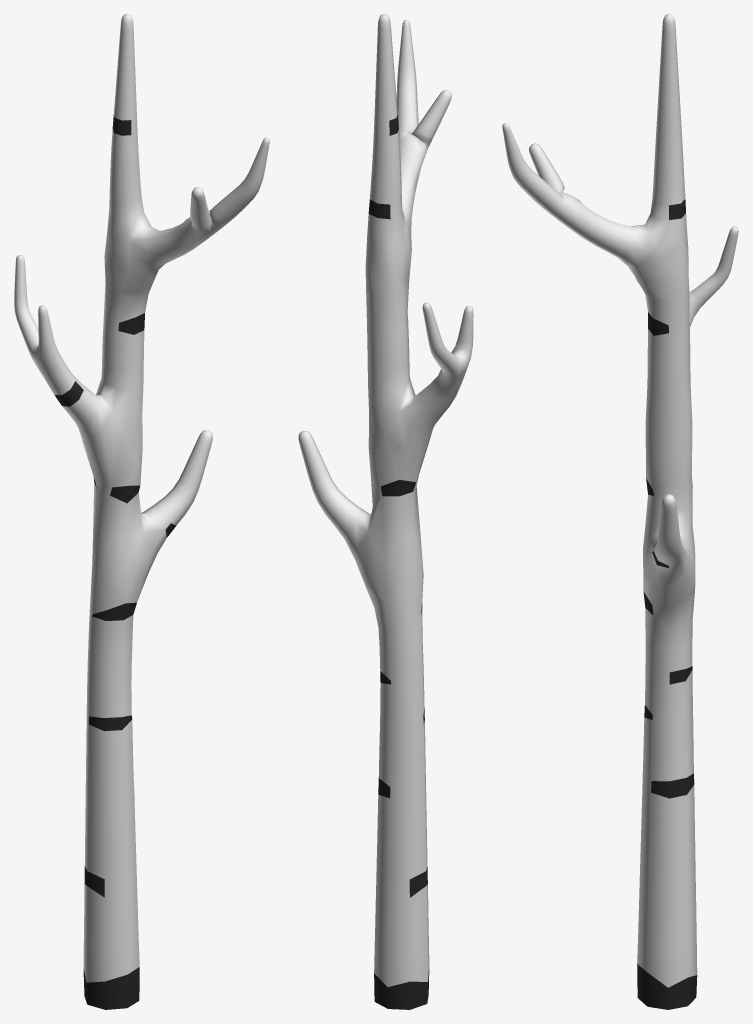
Rendered from Tree Birch 2.fbx.
3 views of the same model, side by side, from view 1: azimuth 30°, elevation 25°; view 2: azimuth 150°, elevation 25°; view 3: azimuth 270°, elevation 25° (orthographic).
Parts seen in each view (by area): view 1: Tree Birch 2; view 2: Tree Birch 2; view 3: Tree Birch 2.
Part boxes in pixels (x1,y1,x2,y2): Tree Birch 2: (14, 14, 269, 1009); Tree Birch 2: (298, 14, 473, 1009); Tree Birch 2: (502, 14, 738, 1009).
Size of the model in its own units: 206 by 1112 by 240.
